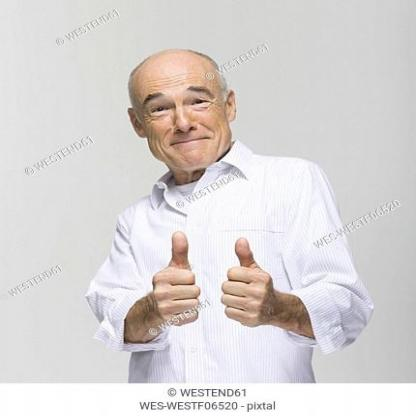Thumbs-Up: (124, 230, 210, 337), (220, 233, 278, 346)
